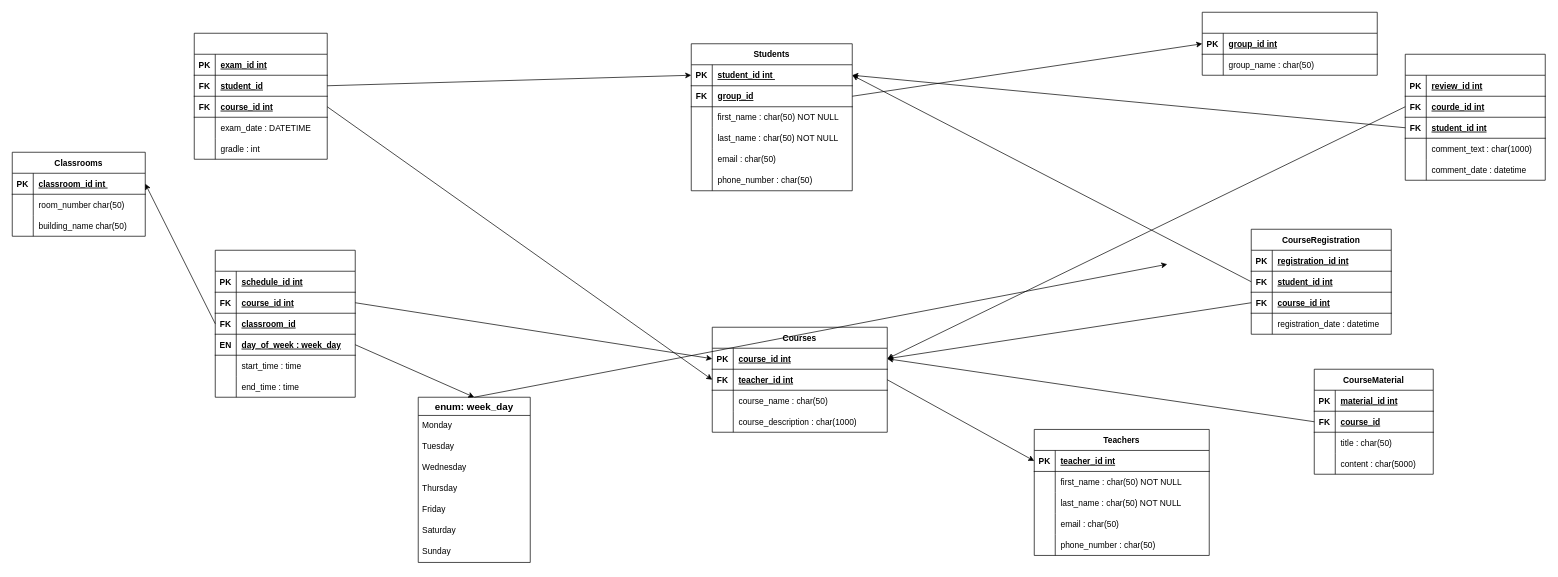
Image size: 1558x577. Some labels were removed from this diagram. The box of each missing label's shape, as (x1, y1, x2, y2) in pixels:
ClassGroups: (1202, 12, 1377, 75)
Exams: (194, 33, 327, 159)
Schedules: (215, 250, 355, 397)
student_rewiev: (1405, 54, 1545, 180)
